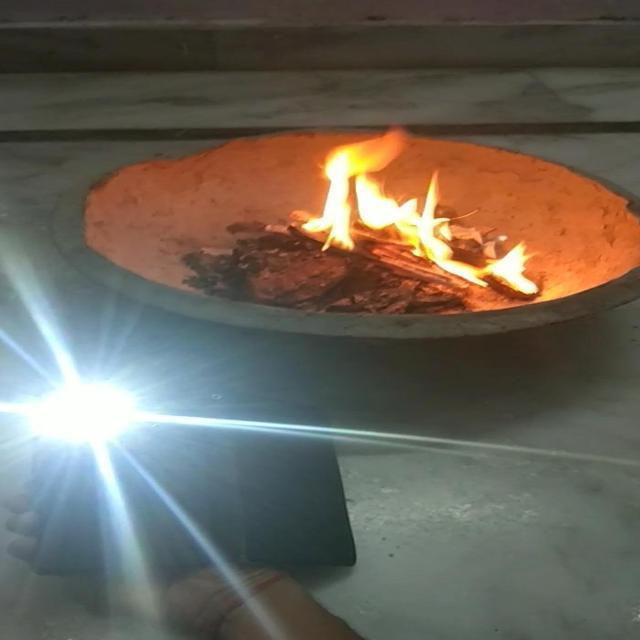smoke: (308, 128, 543, 296)
